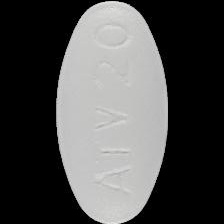51655-920: (0, 0, 224, 224)
